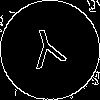Y: (25, 25, 71, 79)
